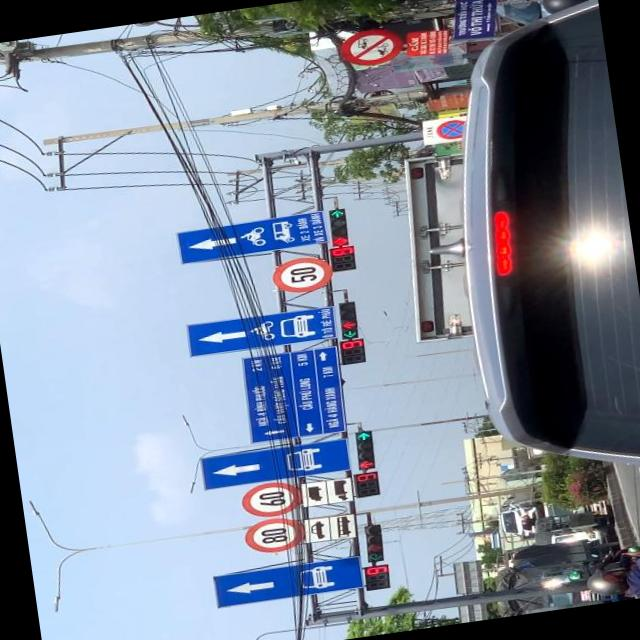P-127: (270, 252, 334, 294)
